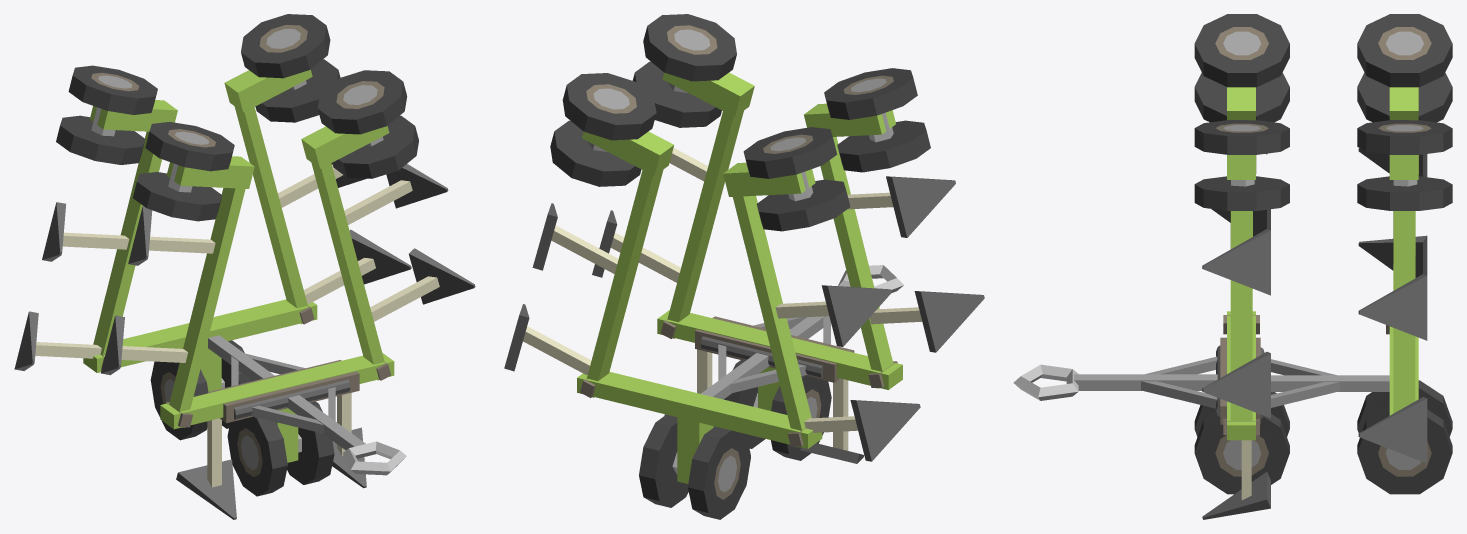
Rendered from trailer1.fbx.
3 views of the same model, side by side, from view 1: azimuth 30°, elevation 25°; view 2: azimuth 150°, elevation 25°; view 3: azimuth 270°, elevation 25° (orthographic). The views are drawn at different scales.
Parts seen in each view (by area): view 1: Cube_6, Cube_7, Cube_11, Cylinder_1_2, Cylinder_1, Cylinder_1_3, Cylinder_1_4, Cylinder_5_2, Cylinder_5, Cylinder_3; view 2: Cube_7, Cube_6, Cube_11, Cylinder_1, Cylinder_1_2, Cylinder_3, Cylinder_1_4, Cylinder_1_3, Cylinder_5_2, Cylinder_5; view 3: Cube_6, Cylinder_1_4, Cylinder_1_3, Cube_11, Cylinder_1, Cylinder_1_2, Cylinder_3, Cylinder_5, Cylinder_5_2, Cube_7.
Part boxes in pixels (x1,y1,x2,y2): Cube_6: (224, 69, 475, 380); Cube_7: (14, 100, 254, 427); Cube_11: (83, 299, 394, 519); Cylinder_1_2: (317, 70, 418, 178); Cylinder_1: (241, 14, 340, 122); Cylinder_1_3: (133, 122, 234, 221); Cylinder_1_4: (56, 65, 157, 164); Cylinder_5_2: (227, 401, 334, 496); Cylinder_5: (234, 379, 406, 475); Cylinder_3: (150, 340, 252, 440); Cube_7: (723, 103, 984, 461); Cube_6: (504, 72, 754, 397); Cube_11: (577, 310, 902, 483); Cylinder_1: (550, 73, 656, 186); Cylinder_1_2: (632, 14, 736, 127); Cylinder_3: (639, 414, 750, 519); Cylinder_1_4: (743, 127, 850, 231); Cylinder_1_3: (824, 68, 930, 172); Cylinder_5_2: (724, 360, 831, 460); Cylinder_5: (753, 265, 903, 344); Cube_6: (1202, 155, 1427, 463); Cylinder_1_4: (1357, 14, 1452, 122); Cylinder_1_3: (1194, 14, 1289, 122); Cube_11: (1202, 311, 1418, 519); Cylinder_1: (1357, 120, 1452, 210); Cylinder_1_2: (1194, 120, 1289, 210); Cylinder_3: (1357, 380, 1452, 494); Cylinder_5: (1013, 345, 1220, 416); Cylinder_5_2: (1194, 392, 1289, 494); Cube_7: (1211, 87, 1427, 334).
Bounding box in the file's own units: 360 × 350 × 341.
